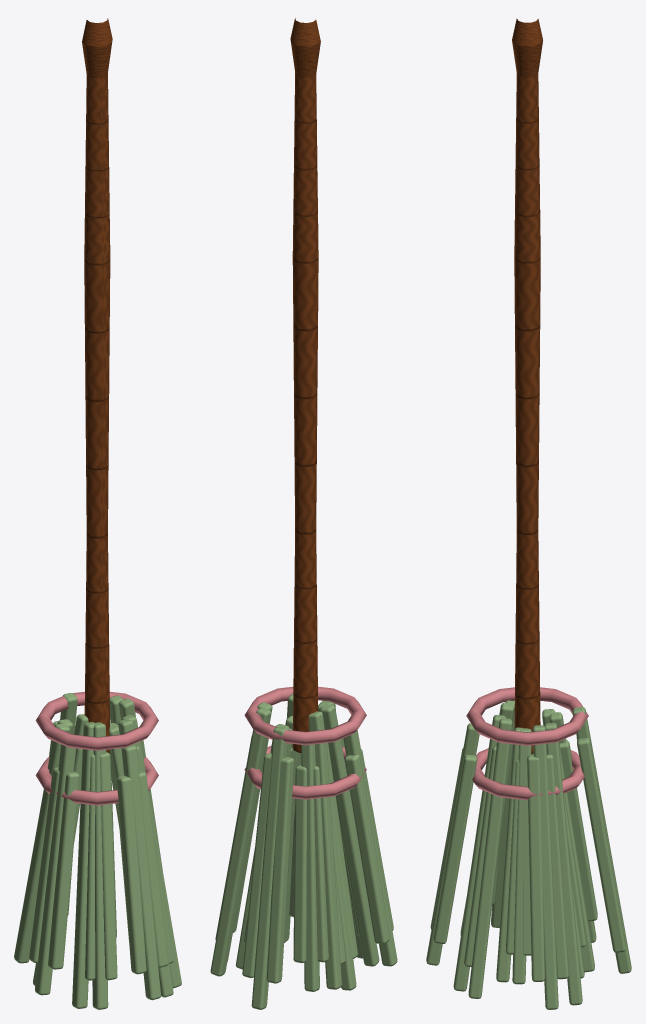
Rendered from witch-cottage-and-apothecary-besom-broom-76d6d5a1__32454.glb.
3 renders of one model, left to right at view 1: azimuth 30°, elevation 25°; view 2: azimuth 150°, elevation 25°; view 3: azimuth 270°, elevation 25°, orthographic.
Parts seen in each view (by area): view 1: besom-broom; view 2: besom-broom; view 3: besom-broom.
Part boxes in pixels (bbox=[...]): besom-broom: bbox=[14, 18, 181, 1009]; besom-broom: bbox=[210, 18, 397, 1009]; besom-broom: bbox=[426, 18, 631, 1009].
Size of the model in its own units: 0.2953 by 1.75 by 0.3411.
Materials: 3 (1 with a texture image).
